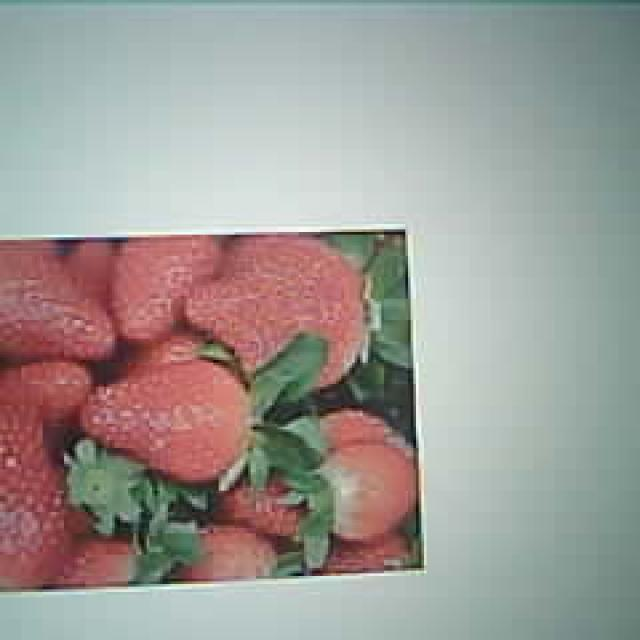strawberry: (191, 236, 370, 391), (86, 360, 248, 482)
